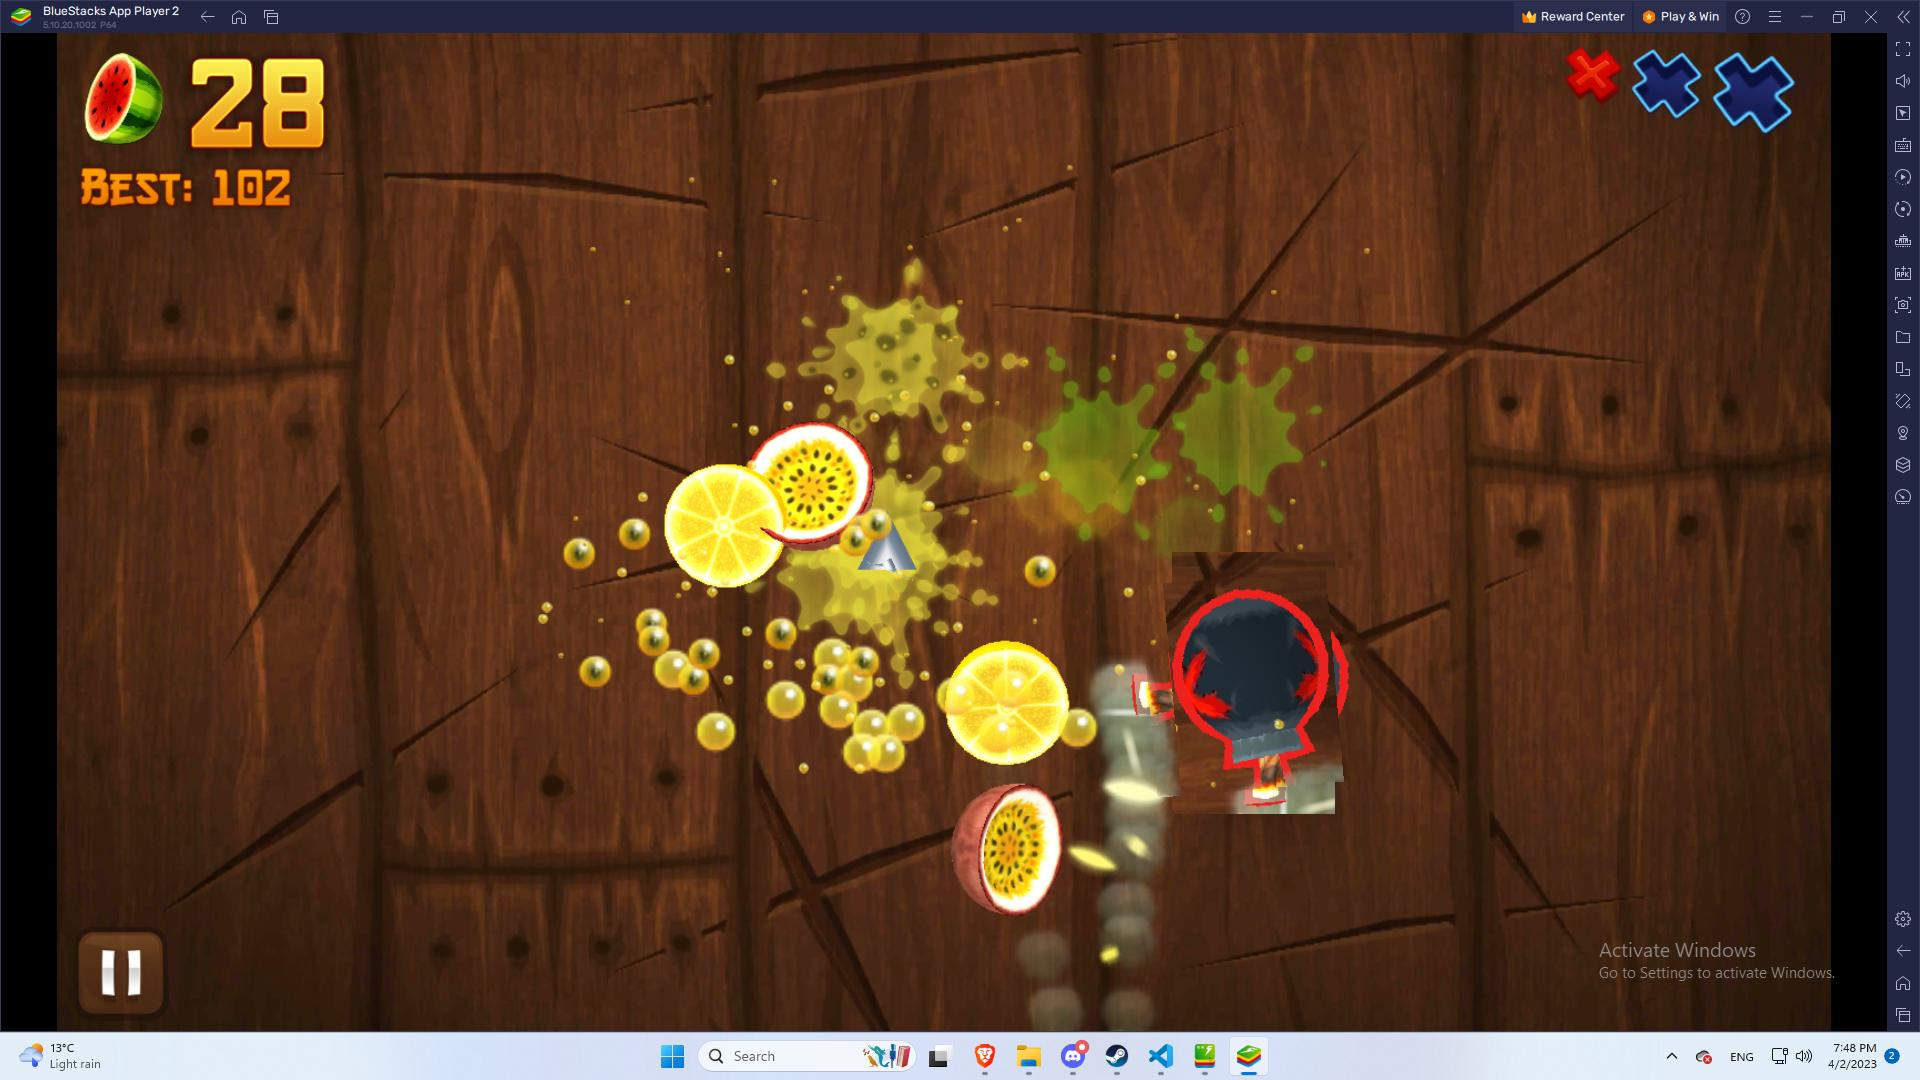bomb: (1143, 572, 1365, 794)
